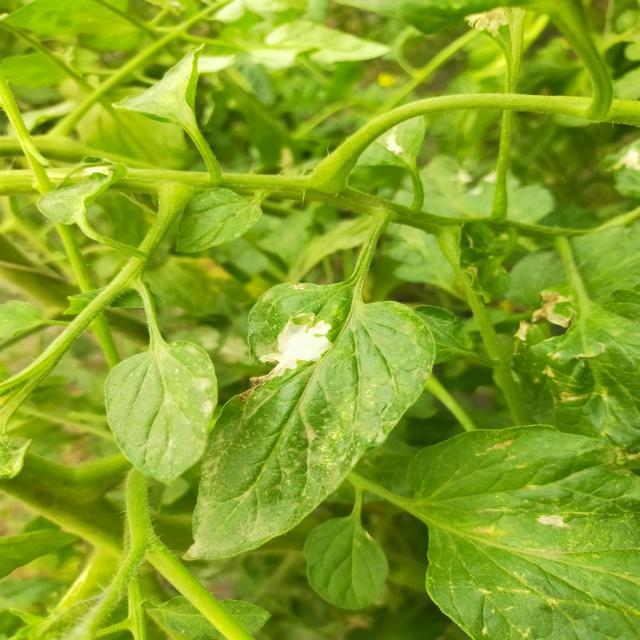Tuta absoluta: (251, 313, 341, 381)
